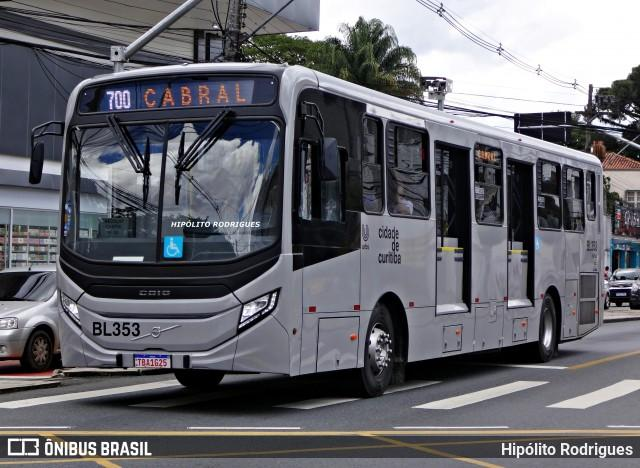CABRAL: (139, 79, 250, 111)
